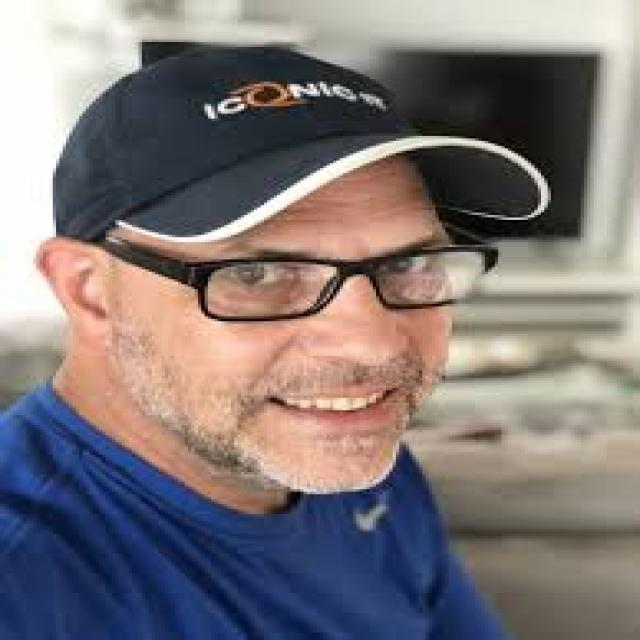3_gorra: (52, 43, 550, 244)
